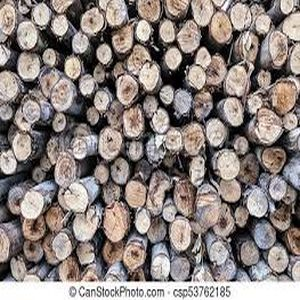log: (250, 108, 286, 147), (197, 182, 221, 231), (101, 202, 128, 243), (225, 59, 254, 97), (268, 78, 300, 112), (53, 152, 79, 193), (146, 170, 169, 216), (172, 177, 196, 221), (170, 87, 198, 124), (97, 126, 125, 163), (80, 6, 109, 41), (244, 185, 271, 222), (266, 28, 290, 68), (204, 52, 227, 92), (49, 78, 75, 113), (178, 19, 203, 55), (72, 211, 102, 241), (219, 96, 247, 128), (213, 150, 241, 182), (169, 218, 194, 253), (19, 189, 45, 222), (109, 25, 137, 55), (15, 52, 42, 83), (63, 182, 89, 214), (184, 122, 207, 158), (17, 97, 46, 125), (233, 32, 259, 63), (112, 75, 138, 106), (205, 117, 229, 150), (18, 215, 46, 243), (13, 131, 36, 165), (15, 22, 40, 53), (1, 72, 23, 107), (123, 108, 146, 140), (211, 13, 233, 46), (49, 232, 74, 261), (253, 221, 277, 251), (139, 61, 161, 93), (124, 181, 146, 213), (260, 147, 286, 174), (228, 2, 252, 31), (99, 181, 124, 208), (123, 243, 148, 270), (150, 252, 171, 284), (110, 159, 133, 188), (185, 61, 205, 94), (193, 91, 214, 122), (102, 239, 126, 266), (239, 240, 262, 268), (208, 238, 232, 264), (75, 240, 98, 267), (1, 4, 19, 38), (137, 1, 162, 25), (267, 246, 289, 273), (240, 153, 259, 184), (1, 150, 21, 179), (219, 179, 243, 203), (105, 1, 128, 26), (192, 1, 214, 27), (283, 11, 300, 44), (165, 127, 185, 155), (44, 205, 64, 233), (24, 238, 44, 266), (158, 19, 177, 48), (132, 208, 152, 235), (149, 218, 168, 246), (190, 156, 207, 187), (169, 255, 190, 280), (32, 2, 52, 28), (165, 1, 191, 21), (69, 32, 90, 56), (50, 14, 70, 39), (151, 109, 171, 134), (254, 11, 272, 38), (63, 56, 83, 80), (164, 45, 183, 70), (244, 93, 265, 115), (125, 139, 145, 161), (134, 20, 152, 44), (96, 43, 113, 68), (78, 76, 97, 98), (95, 87, 111, 112), (49, 111, 67, 133), (272, 173, 287, 199), (41, 47, 59, 68), (256, 68, 273, 90), (142, 95, 158, 118), (71, 139, 88, 159), (93, 164, 110, 184), (84, 107, 100, 128), (232, 136, 249, 155), (161, 84, 174, 106), (278, 1, 298, 15)
